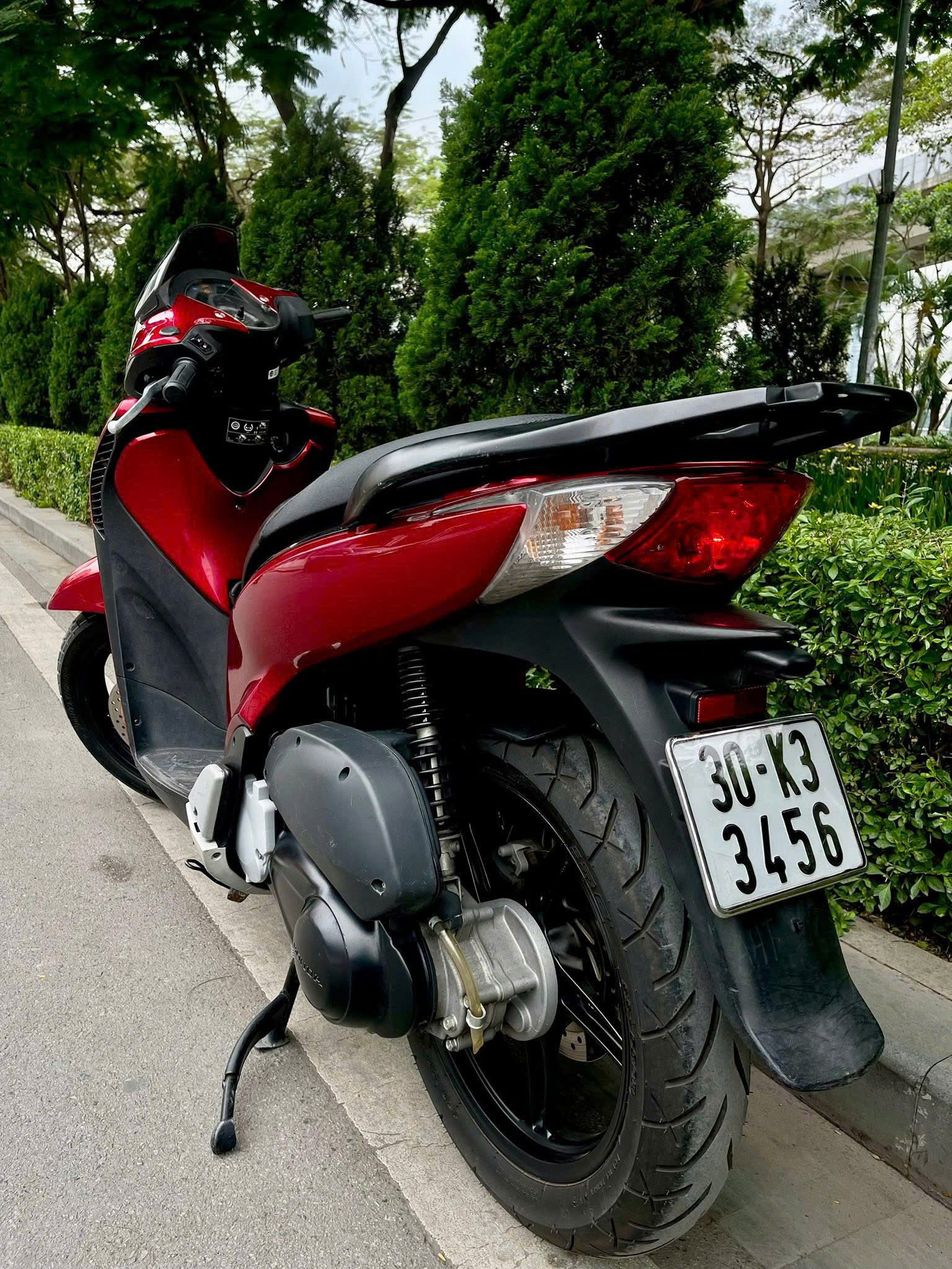Bien-so: (674, 707, 872, 914)
